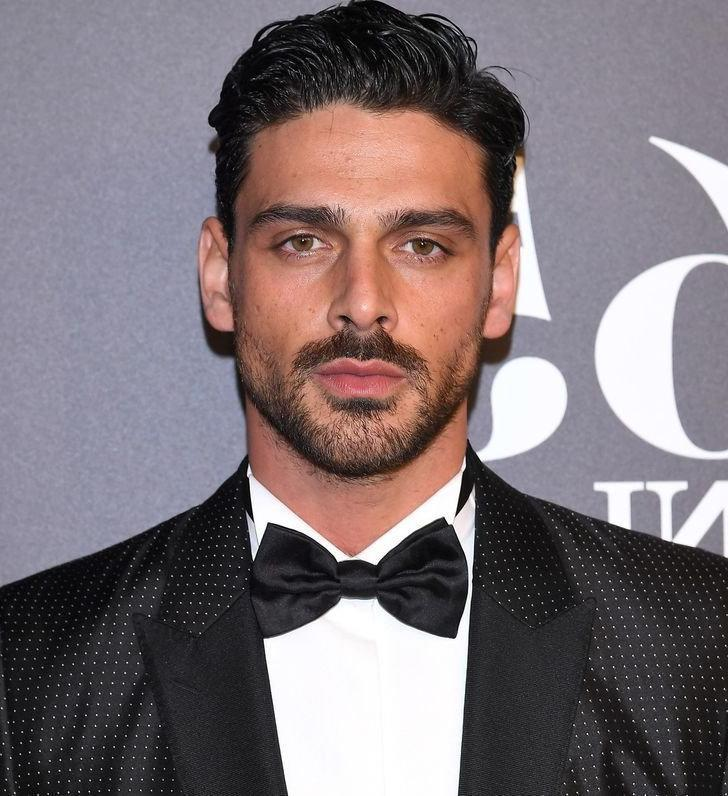Sober: (232, 139, 483, 448)
